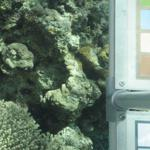dead: (5, 6, 103, 148)
